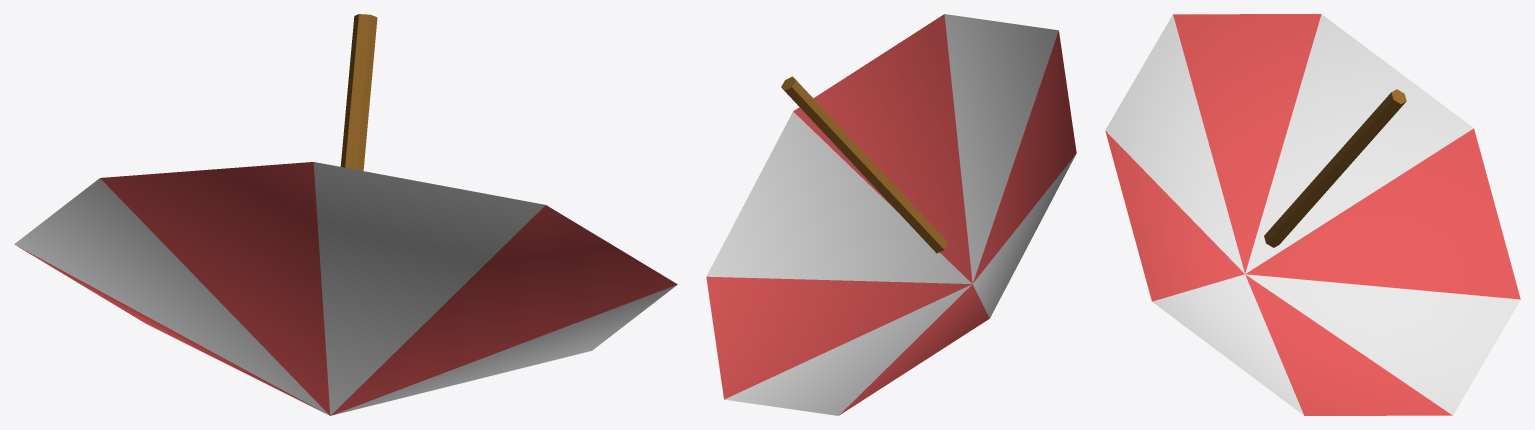
File: MV_Parasool (1).fbx
3 renders of one model, left to right at view 1: azimuth 30°, elevation 25°; view 2: azimuth 150°, elevation 25°; view 3: azimuth 270°, elevation 25°, orthographic. The views are drawn at different scales.
Parts seen in each view (by area): view 1: pCube3, pCylinder1; view 2: pCube3, pCylinder1; view 3: pCube3, pCylinder1.
Boxes of the visible parts, <box> form: pCube3: <box>14,162,677,415</box>; pCylinder1: <box>340,14,377,170</box>; pCube3: <box>706,14,1076,415</box>; pCylinder1: <box>781,76,948,253</box>; pCube3: <box>1105,14,1520,415</box>; pCylinder1: <box>1264,89,1406,247</box>.
Size of the model in its own units: 6.91 by 5.45 by 6.65.
